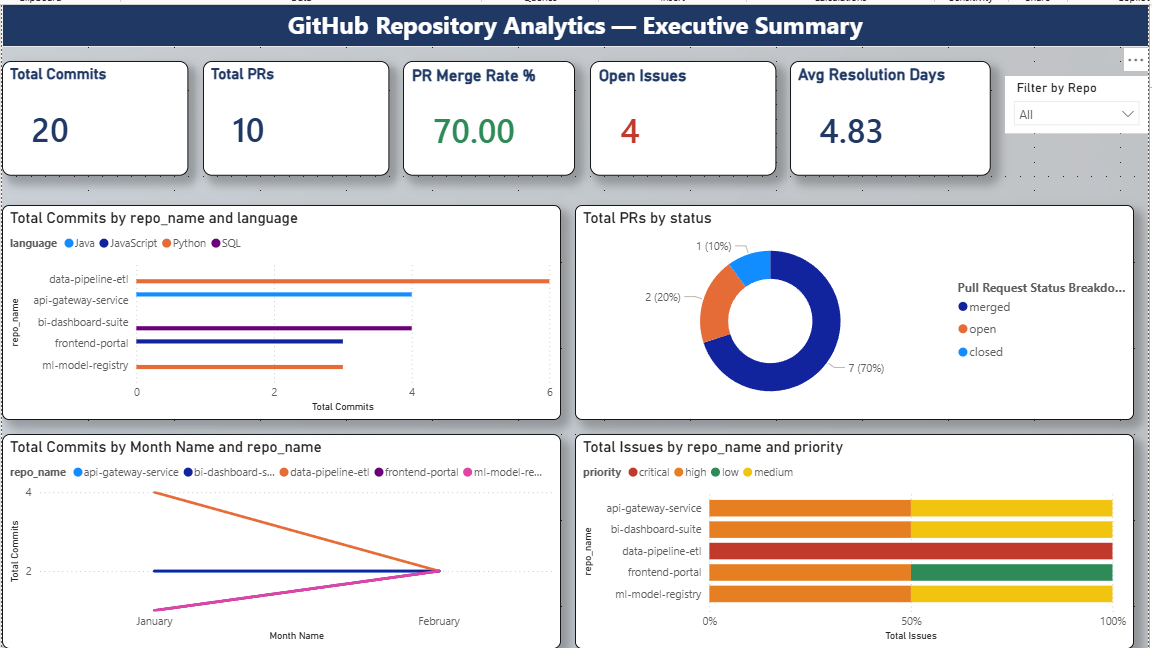

The page's visual inventory and layout, read from the dashboard file:
{"tool":"powerbi","page":{"name":"Executive Summary","canvas":[1280,720],"ordinal":0},"visuals":[{"type":"textbox","box":[0,0,1280,48],"z":0},{"type":"cardVisual","title":"Total Commits","fields":{"Data":["_Measures.Total Commits"]},"box":[0,64,208,128],"z":1000},{"type":"cardVisual","title":"Avg Resolution Days","fields":{"Data":["_Measures.Avg Resolution Days"]},"box":[880,64,224,128],"z":2000},{"type":"cardVisual","title":"Open Issues","fields":{"Data":["_Measures.Open Issues"]},"box":[656,64,208,128],"z":3000},{"type":"cardVisual","title":"Total PRs","fields":{"Data":["_Measures.Total PRs"]},"box":[224,64,208,128],"z":4000},{"type":"cardVisual","title":"PR Merge Rate %","fields":{"Data":["_Measures.PR Merge Rate %"]},"box":[448,64,192,128],"z":5000},{"type":"clusteredBarChart","fields":{"Category":["repositories.repo_name"],"Y":["_Measures.Total Commits"],"Series":["repositories.language"]},"box":[0,224,624,240],"z":6000},{"type":"donutChart","fields":{"Category":["pull_requests.status"],"Y":["_Measures.Total PRs"]},"box":[640,224,624,240],"z":7000},{"type":"lineChart","fields":{"Y":["_Measures.Total Commits"],"Series":["repositories.repo_name"],"Category":["commits.Month Name"]},"box":[0,480,624,240],"z":8000},{"type":"hundredPercentStackedBarChart","fields":{"Category":["repositories.repo_name"],"Y":["_Measures.Total Issues"],"Series":["issues.priority"]},"box":[640,480,624,240],"z":9000},{"type":"slicer","fields":{"Values":["repositories.repo_name"]},"box":[1120,80,160,64],"z":10000}]}

Visuals, with their boxes on the page's 1280x720 design canvas (x1, y1, x2, y2). These are canvas units, not pixel positions in the 1152x650 screenshot, which may show the page scaled, cropped or inside an application window:
textbox: BBox(0, 0, 1280, 48)
"Total Commits" cardVisual: BBox(0, 64, 208, 192)
"Avg Resolution Days" cardVisual: BBox(880, 64, 1104, 192)
"Open Issues" cardVisual: BBox(656, 64, 864, 192)
"Total PRs" cardVisual: BBox(224, 64, 432, 192)
"PR Merge Rate %" cardVisual: BBox(448, 64, 640, 192)
clusteredBarChart - repositories.repo_name x _Measures.Total Commits: BBox(0, 224, 624, 464)
donutChart - pull_requests.status x _Measures.Total PRs: BBox(640, 224, 1264, 464)
lineChart - _Measures.Total Commits x repositories.repo_name: BBox(0, 480, 624, 720)
hundredPercentStackedBarChart - repositories.repo_name x _Measures.Total Issues: BBox(640, 480, 1264, 720)
slicer - repositories.repo_name: BBox(1120, 80, 1280, 144)
